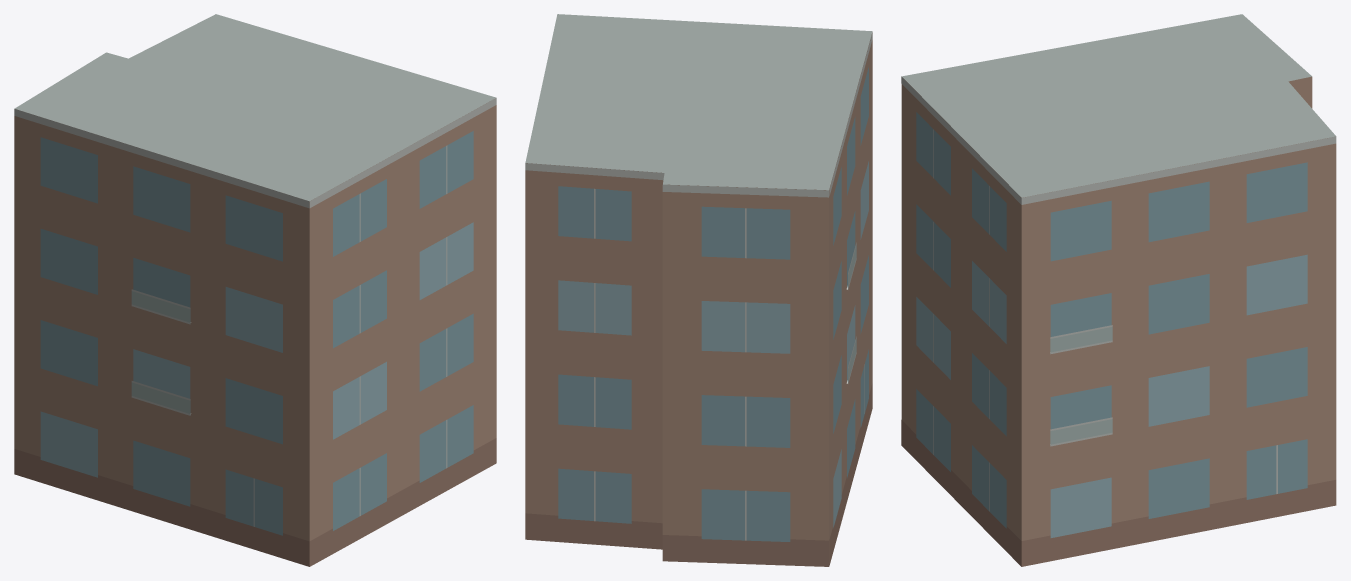
The model's file is survey-upis-33039530.glb.
3 renders of one model, left to right at view 1: azimuth 30°, elevation 25°; view 2: azimuth 150°, elevation 25°; view 3: azimuth 270°, elevation 25°, orthographic. The views are drawn at different scales.
Visible parts, largest first — view 1: survey-upis-33039530.tmp; view 2: survey-upis-33039530.tmp; view 3: survey-upis-33039530.tmp.
Boxes of the visible parts, x1,y1,x2,y2 form: survey-upis-33039530.tmp: (14, 14, 496, 566); survey-upis-33039530.tmp: (525, 14, 872, 566); survey-upis-33039530.tmp: (901, 14, 1336, 566).
Bounding box in the file's own units: 13.41 × 12.55 × 13.41.
